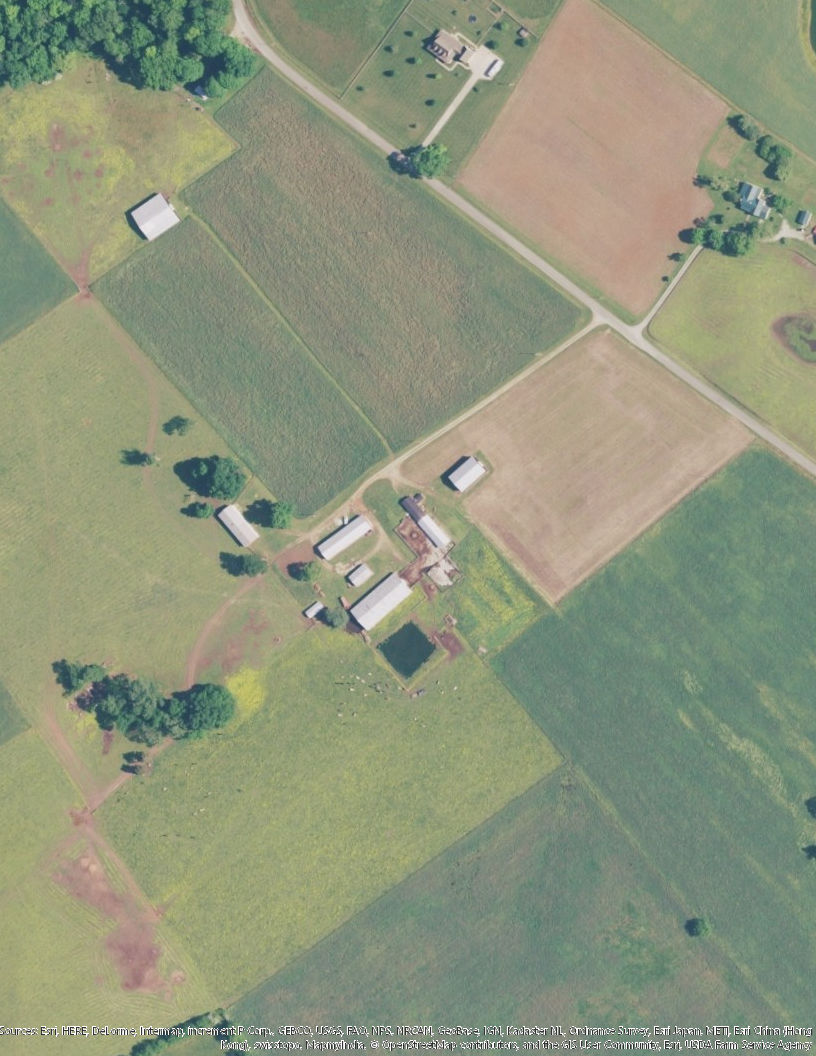cafo: (398, 495, 461, 561), (352, 568, 416, 630), (317, 509, 376, 561), (217, 502, 267, 553), (446, 452, 492, 494)
